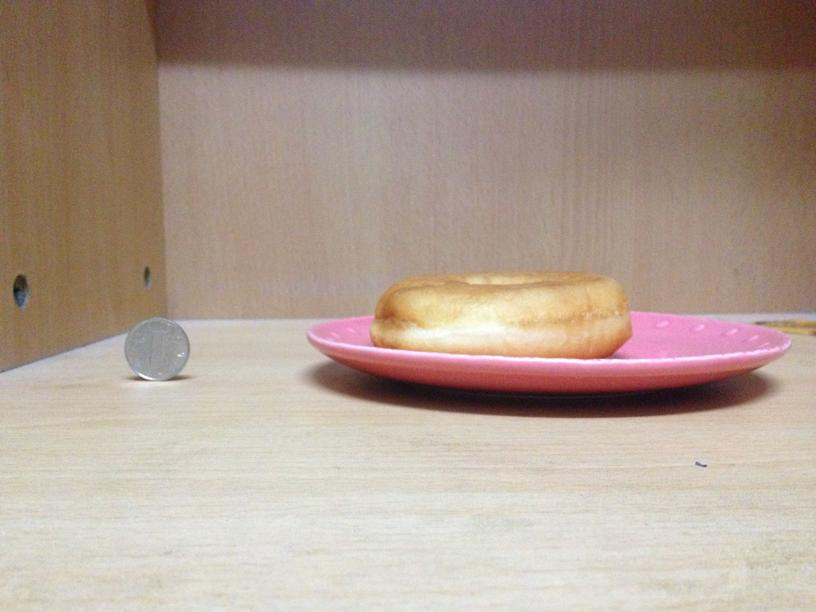coin: (123, 316, 190, 380)
doughnut: (373, 274, 630, 358)
